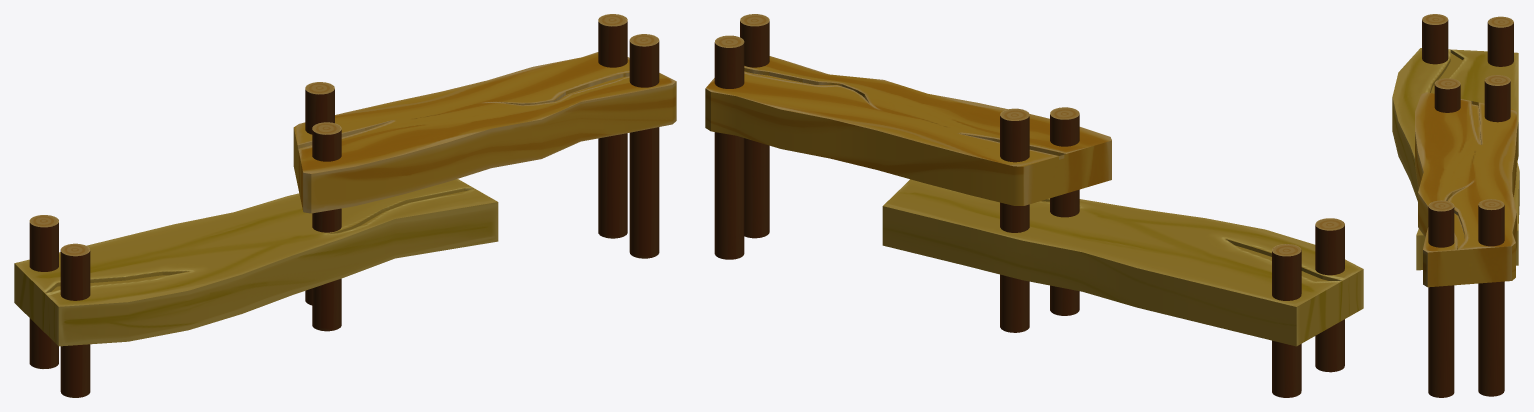
Rendered from Buffetero.obj.
The picture shows the model from 3 angles, left to right: view 1: azimuth 30°, elevation 25°; view 2: azimuth 150°, elevation 25°; view 3: azimuth 270°, elevation 25°; orthographic projection. The views are drawn at different scales.
Parts seen in each view (by area): view 1: Buffetero_pCube3; view 2: Buffetero_pCube3; view 3: Buffetero_pCube3.
Boxes of the visible parts, left/top/right/bottom form: Buffetero_pCube3: left=14, top=14, right=676, bottom=397; Buffetero_pCube3: left=705, top=14, right=1363, bottom=397; Buffetero_pCube3: left=1392, top=14, right=1519, bottom=397.
Bounding box in the file's own units: 3.89 × 1.27 × 0.7822.
3 materials, 3 textured.
